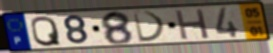4: (215, 6, 242, 40)
8: (99, 9, 136, 46), (62, 14, 90, 46)
D: (131, 10, 169, 44)
H: (173, 8, 212, 42)
Q: (30, 15, 63, 48)
